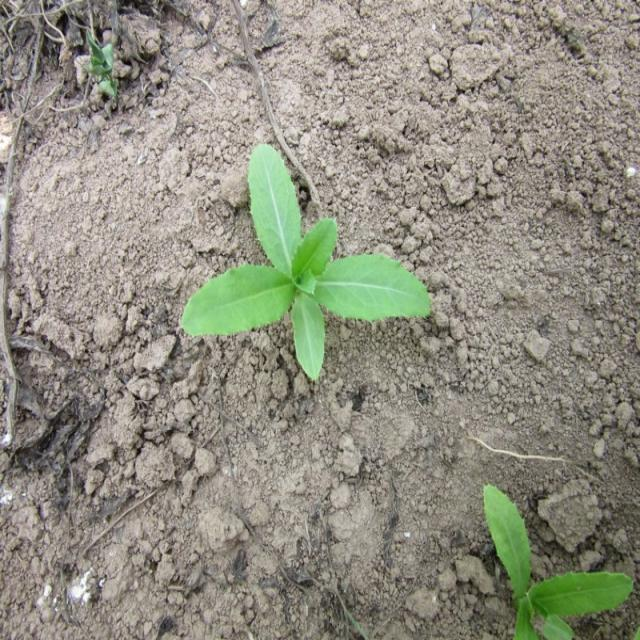field_thistle: (164, 148, 428, 390)
